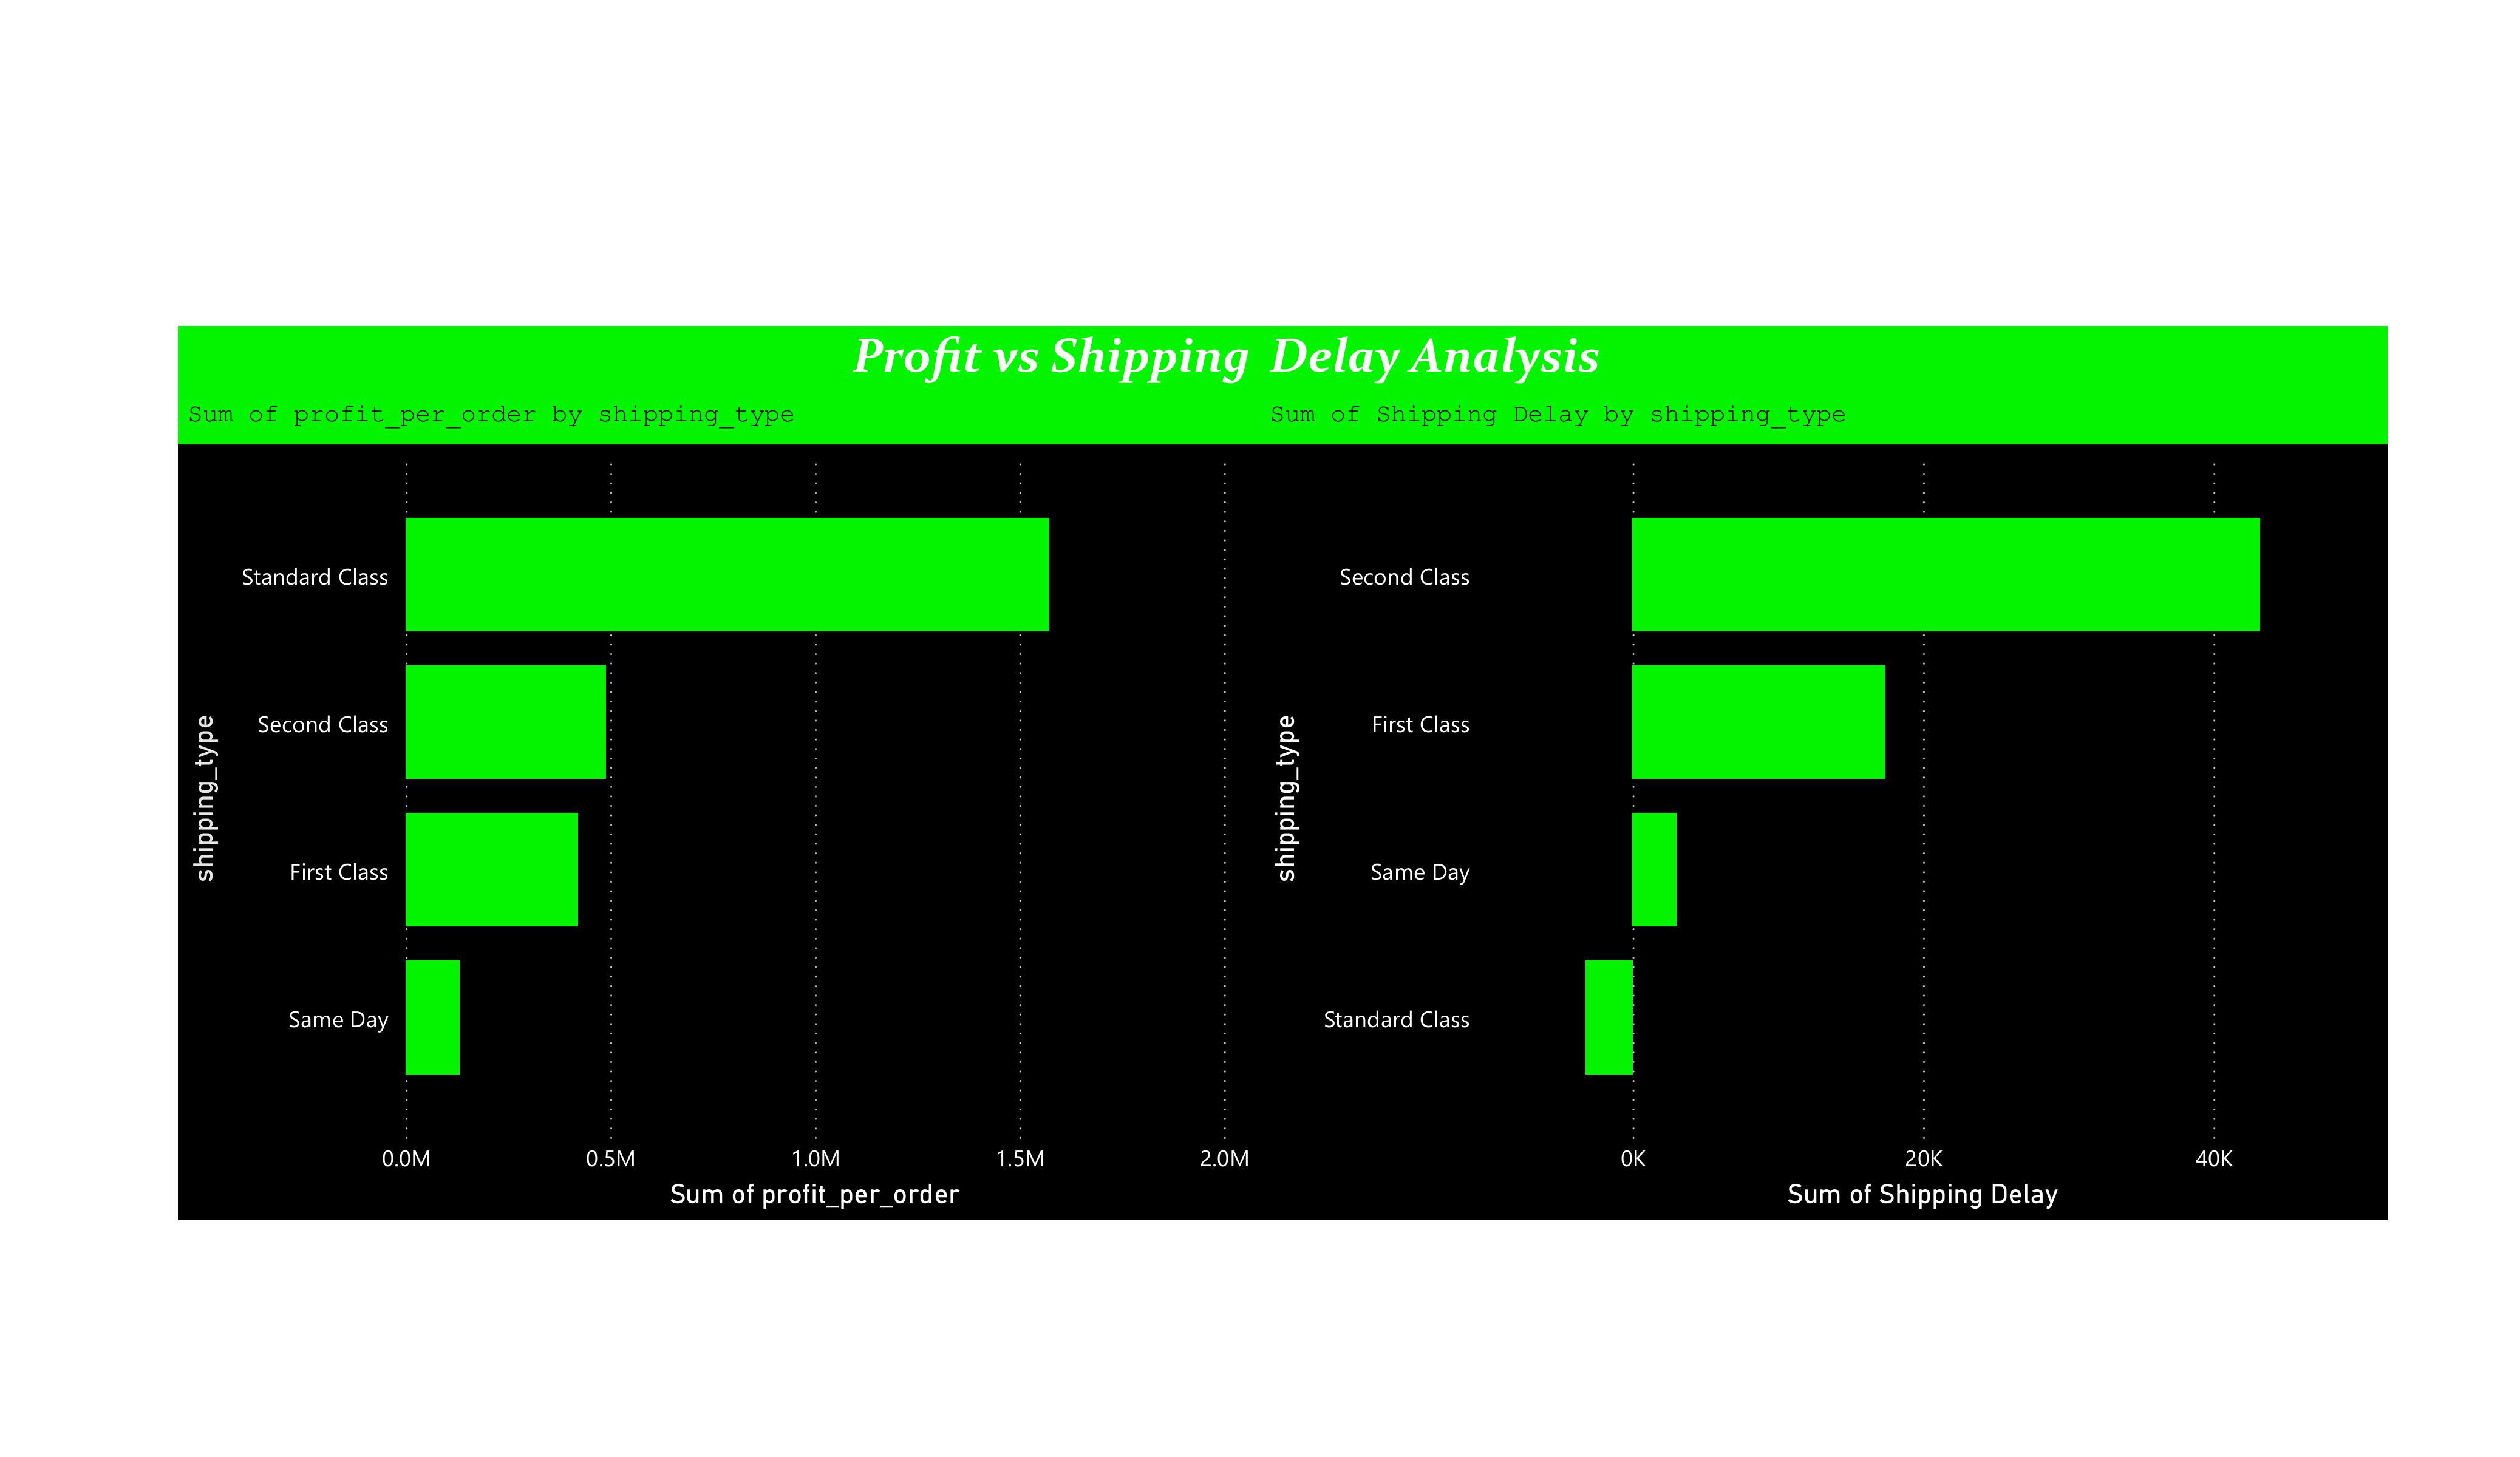

The page's visual inventory and layout, read from the dashboard file:
{"tool":"powerbi","page":{"name":"Profit vs. Shipping Delay Analysis (Side-by-Side Charts)","canvas":[1280,720],"ordinal":4},"visuals":[{"type":"clusteredBarChart","title":"Profit vs Shipping","fields":{"Category":["ecommerce_data.shipping_type"],"Y":["Sum(ecommerce_data.profit_per_order)"]},"box":[69.7,148,569.8,470.8],"z":0},{"type":"clusteredBarChart","title":" Delay Analysis","fields":{"Category":["ecommerce_data.shipping_type"],"Y":["Sum(ecommerce_data.Shipping Delay)"]},"box":[639.5,148,594.3,470.8],"z":1000}]}

Visuals, with their boxes on the page's 1280x720 design canvas (x1, y1, x2, y2). These are canvas units, not pixel positions in the 2520x1457 screenshot, which may show the page scaled, cropped or inside an application window:
"Profit vs Shipping" clusteredBarChart: 70:148:640:619
" Delay Analysis" clusteredBarChart: 640:148:1234:619
